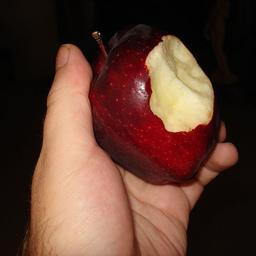apple: (88, 23, 221, 184)
